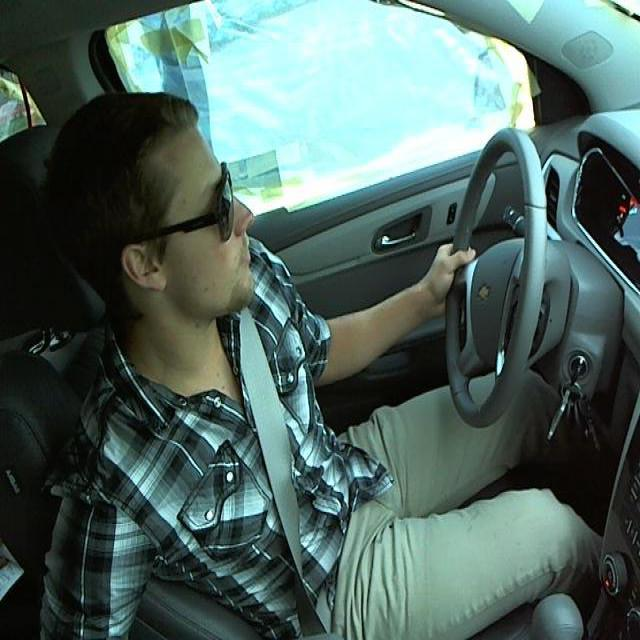seatbelt: (224, 317, 360, 639)
